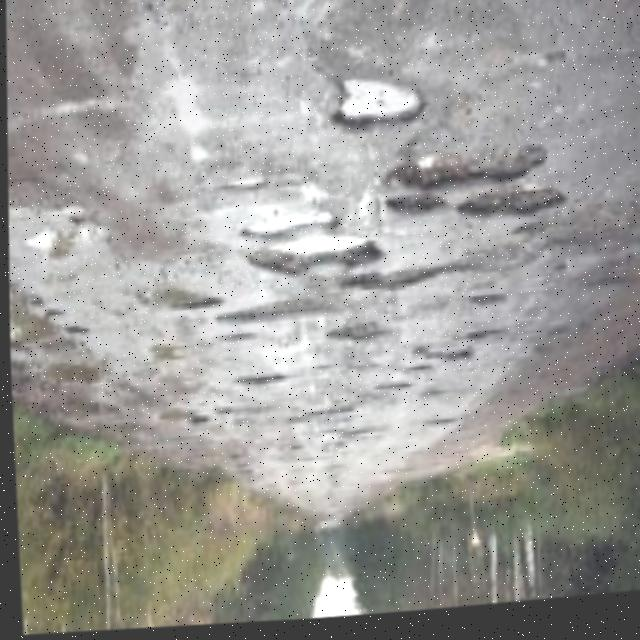Pothole: (386, 127, 567, 203), (327, 251, 484, 319), (317, 78, 434, 163), (258, 226, 414, 288), (529, 213, 640, 289), (210, 352, 317, 425), (22, 189, 154, 247), (444, 192, 568, 245), (210, 295, 355, 335), (124, 274, 230, 328), (562, 258, 640, 325), (6, 273, 71, 353), (271, 407, 356, 455), (237, 223, 342, 261), (407, 0, 539, 28), (380, 193, 459, 237), (324, 317, 404, 357), (453, 282, 525, 326), (25, 355, 115, 387), (45, 394, 121, 427), (150, 408, 220, 443), (325, 427, 407, 448), (450, 336, 503, 364), (410, 351, 476, 371), (32, 286, 68, 321), (418, 424, 480, 440), (363, 388, 421, 405)
